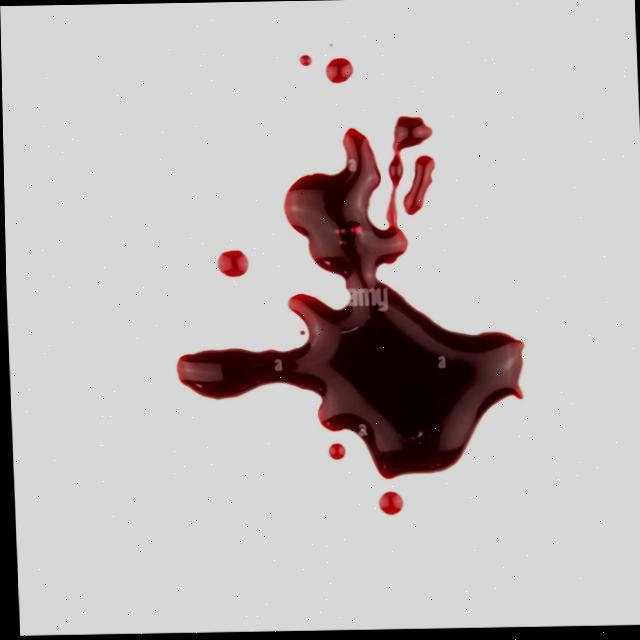knife: (384, 285, 475, 429), (173, 346, 316, 397), (350, 431, 474, 480), (319, 346, 383, 429), (291, 229, 407, 271), (477, 331, 527, 424), (345, 128, 385, 227), (280, 170, 344, 226), (335, 275, 381, 344), (285, 294, 332, 344), (403, 157, 441, 217), (386, 111, 435, 151), (386, 153, 405, 227), (214, 247, 251, 280), (323, 56, 357, 87), (377, 491, 406, 519), (327, 441, 348, 463), (300, 53, 313, 65)
